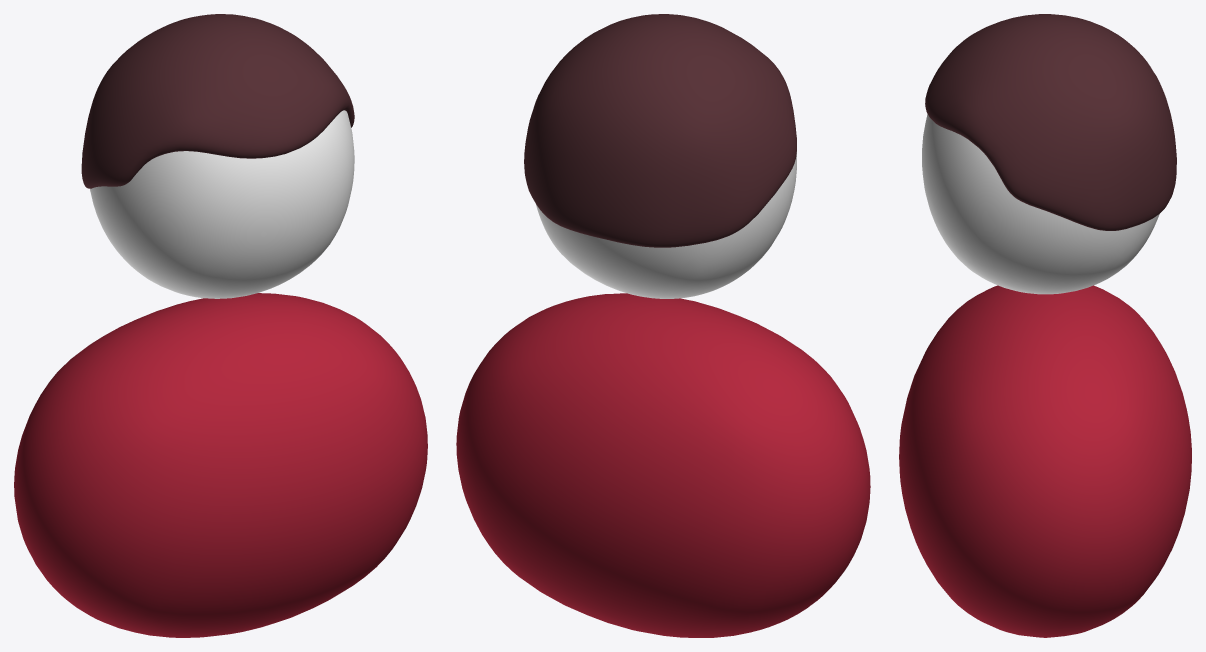
Rendered from boy.glb.
3 renders of one model, left to right at view 1: azimuth 30°, elevation 25°; view 2: azimuth 150°, elevation 25°; view 3: azimuth 270°, elevation 25°, orthographic.
Visible parts, largest first — view 1: Boy; view 2: Boy; view 3: Boy.
Part boxes in pixels (bbox=[...]): Boy: bbox=[14, 14, 427, 637]; Boy: bbox=[456, 14, 870, 637]; Boy: bbox=[899, 14, 1191, 637].
Bounding box in the file's own units: 1.23 × 1.83 × 0.8313.
